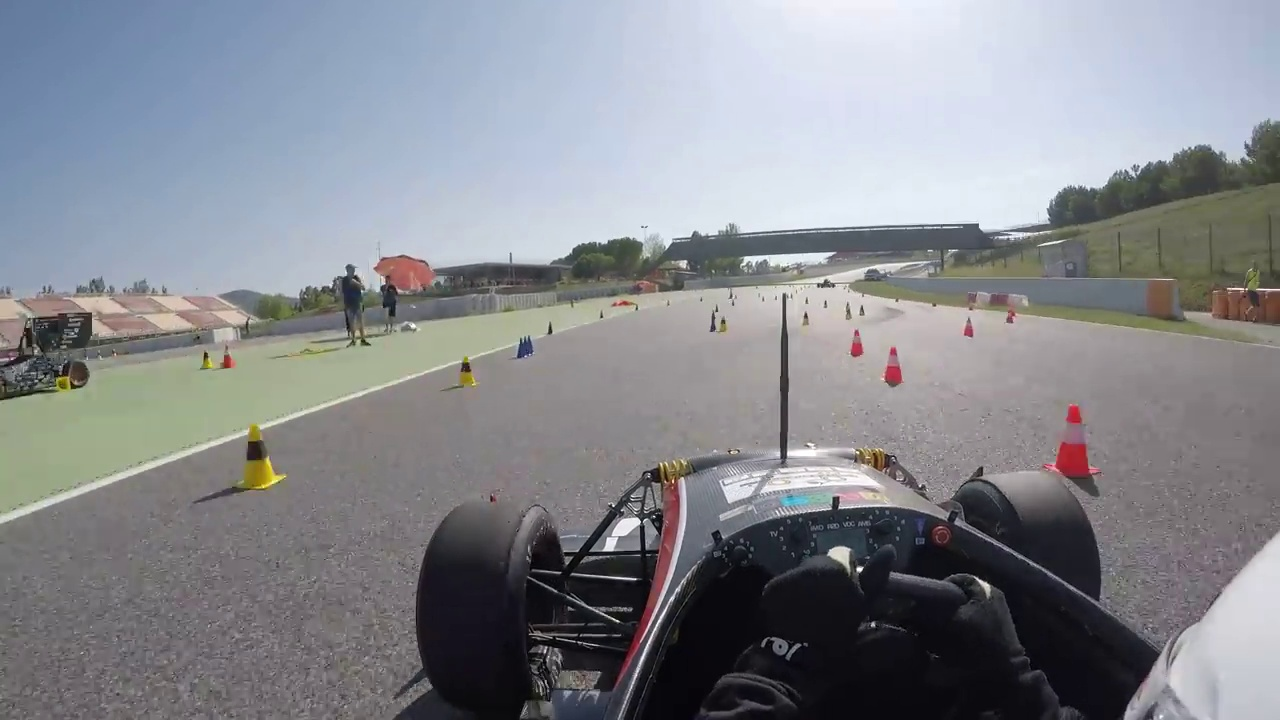Cone: (1050, 403, 1100, 477), (235, 426, 280, 494), (882, 345, 903, 385), (456, 354, 475, 390)
